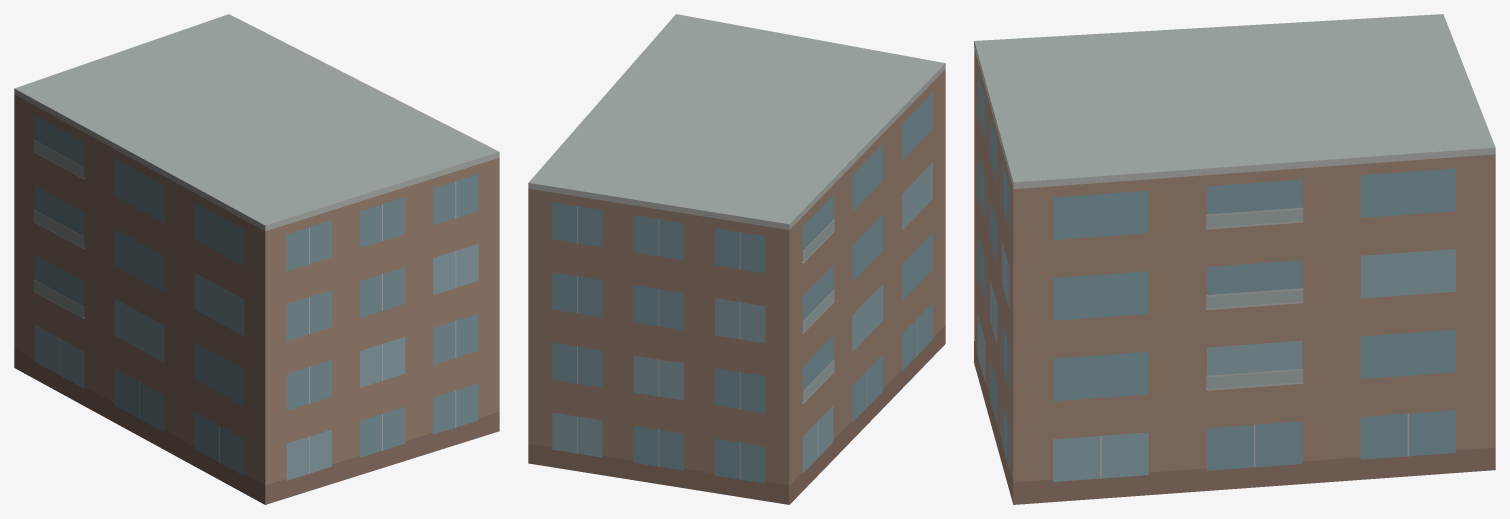
The model's file is survey-upis-32848125.glb.
3 views of the same model, side by side, from view 1: azimuth 30°, elevation 25°; view 2: azimuth 150°, elevation 25°; view 3: azimuth 270°, elevation 25° (orthographic). The views are drawn at different scales.
Visible parts, largest first — view 1: survey-upis-32848125.tmp; view 2: survey-upis-32848125.tmp; view 3: survey-upis-32848125.tmp.
Boxes of the visible parts, bbox=[...] form: survey-upis-32848125.tmp: bbox=[14, 14, 499, 504]; survey-upis-32848125.tmp: bbox=[528, 14, 945, 504]; survey-upis-32848125.tmp: bbox=[974, 14, 1495, 504].
Bounding box in the file's own units: 13.24 × 11.8 × 17.31.
